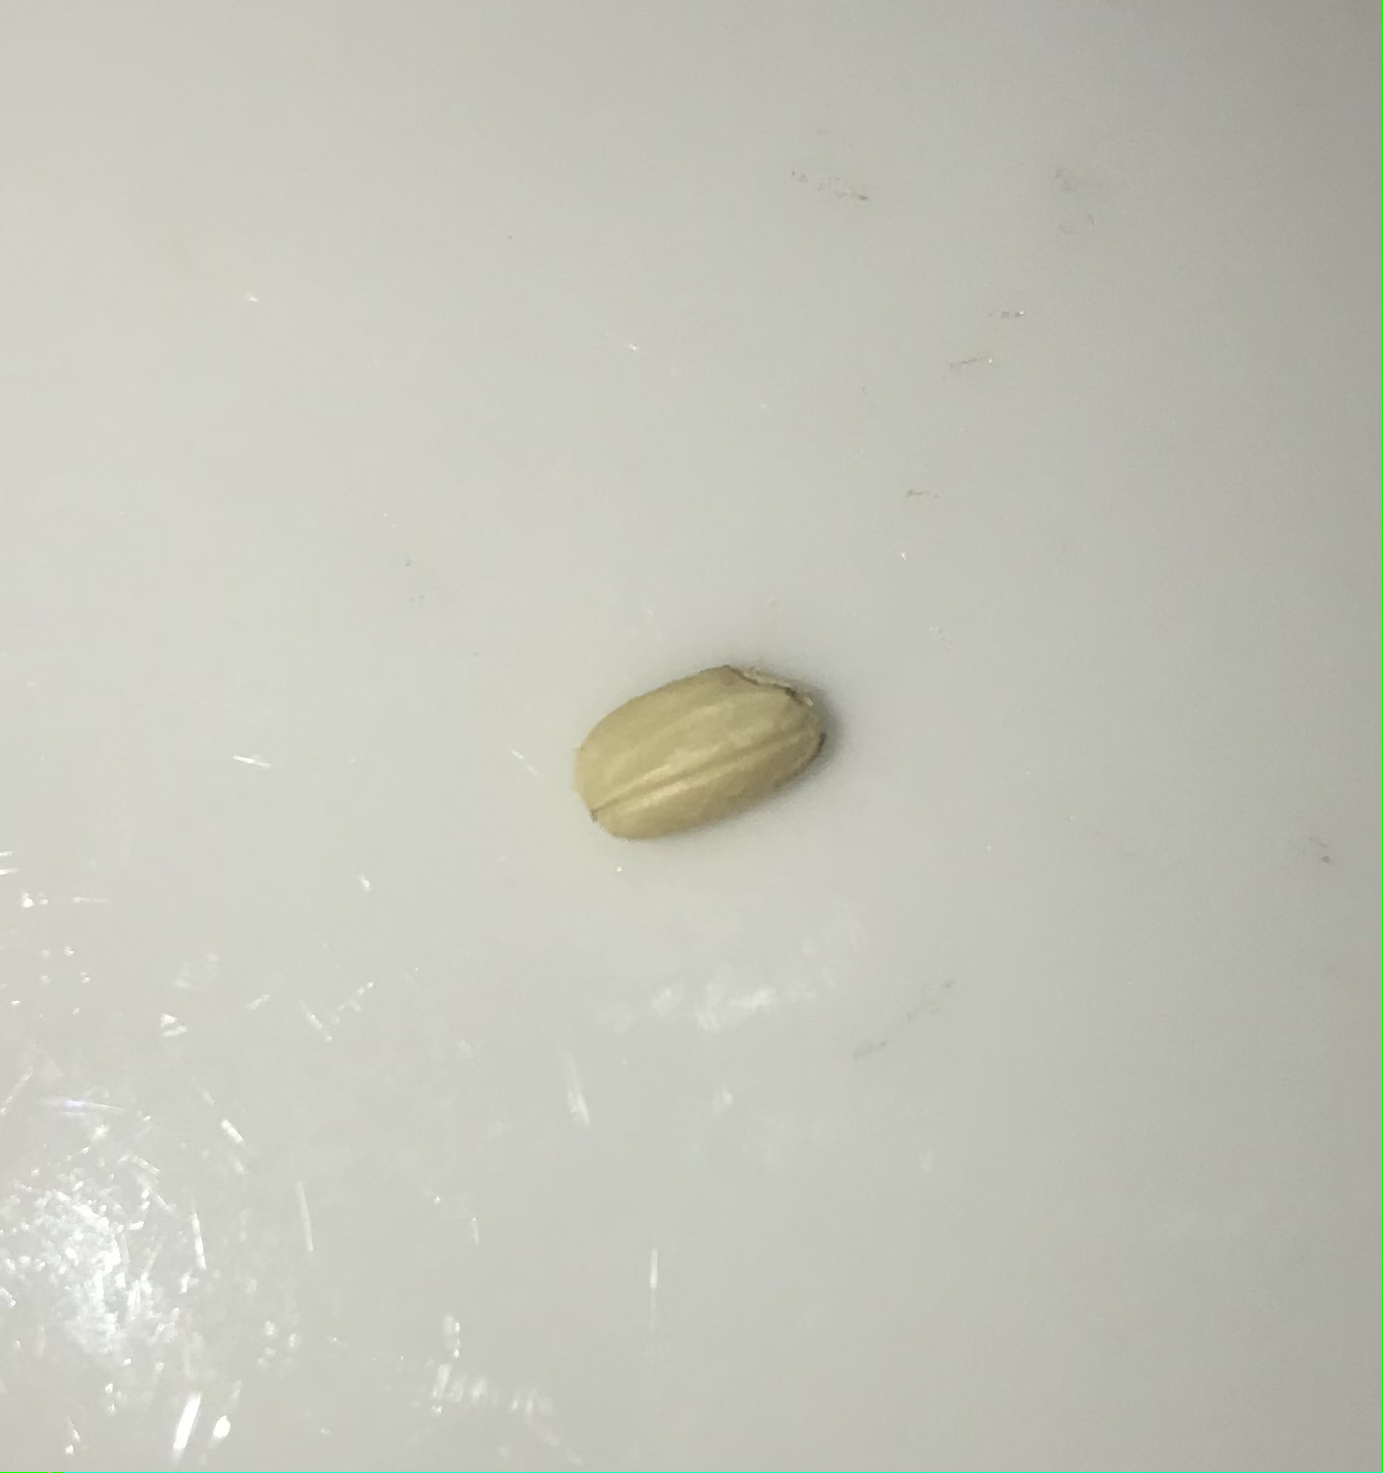Gao Lut Bac: (571, 632, 849, 848)
